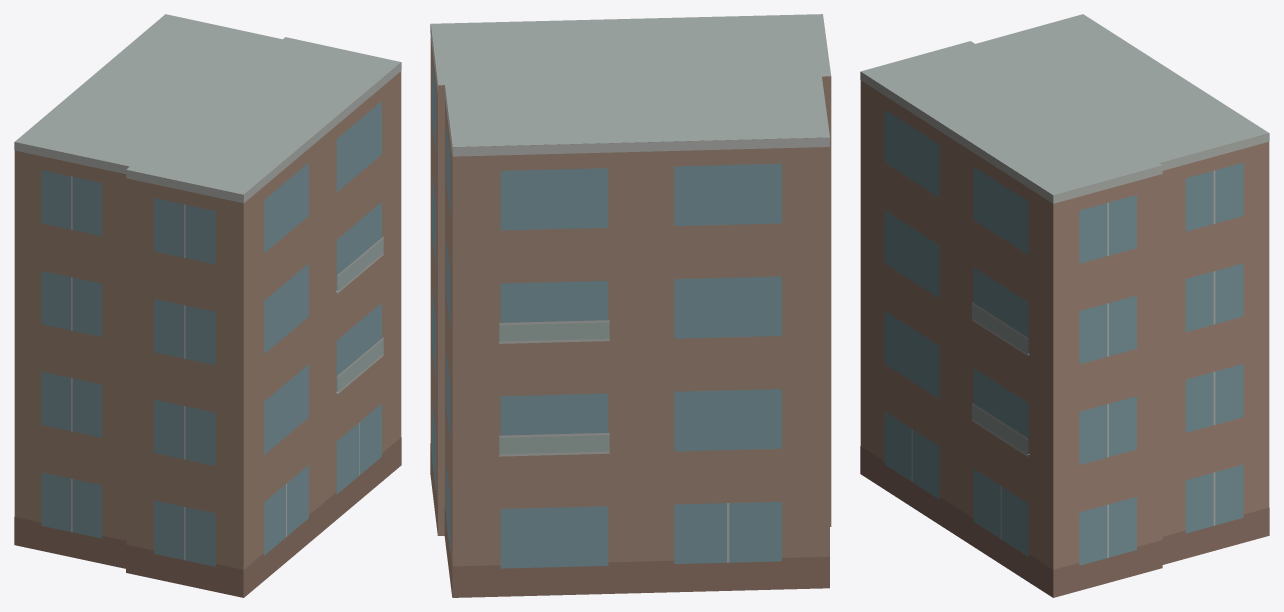
File: survey-upis-32506689.glb
3 renders of one model, left to right at view 1: azimuth 30°, elevation 25°; view 2: azimuth 150°, elevation 25°; view 3: azimuth 270°, elevation 25°, orthographic. The views are drawn at different scales.
Visible parts, largest first — view 1: survey-upis-32506689.tmp; view 2: survey-upis-32506689.tmp; view 3: survey-upis-32506689.tmp.
Part boxes in pixels (bbox=[...]): survey-upis-32506689.tmp: bbox=[14, 14, 401, 597]; survey-upis-32506689.tmp: bbox=[430, 14, 831, 597]; survey-upis-32506689.tmp: bbox=[860, 14, 1269, 597].
Bounding box in the file's own units: 11.17 × 11.55 × 10.64.
